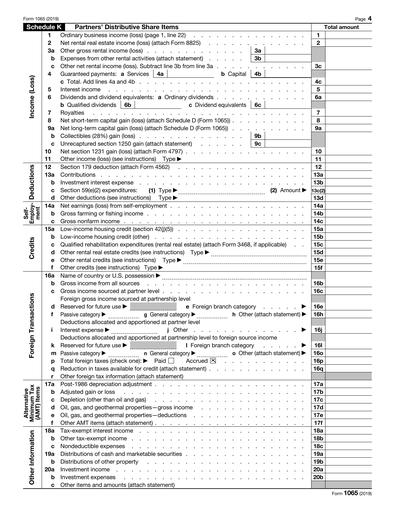filled checkbox: (209, 357, 216, 364)
unfilled checkbox: (167, 356, 174, 364)
